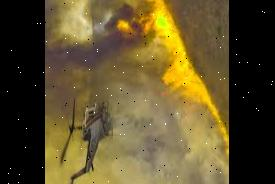fire: (156, 54, 229, 148), (119, 0, 180, 55)
